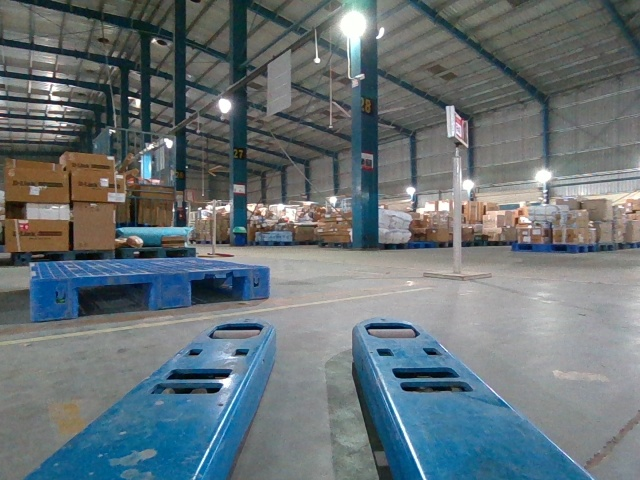block: (31, 276, 81, 321), (150, 271, 192, 308), (243, 267, 269, 301)
front: (30, 265, 270, 322)
hole pallet: (76, 285, 149, 316), (191, 277, 241, 304)
